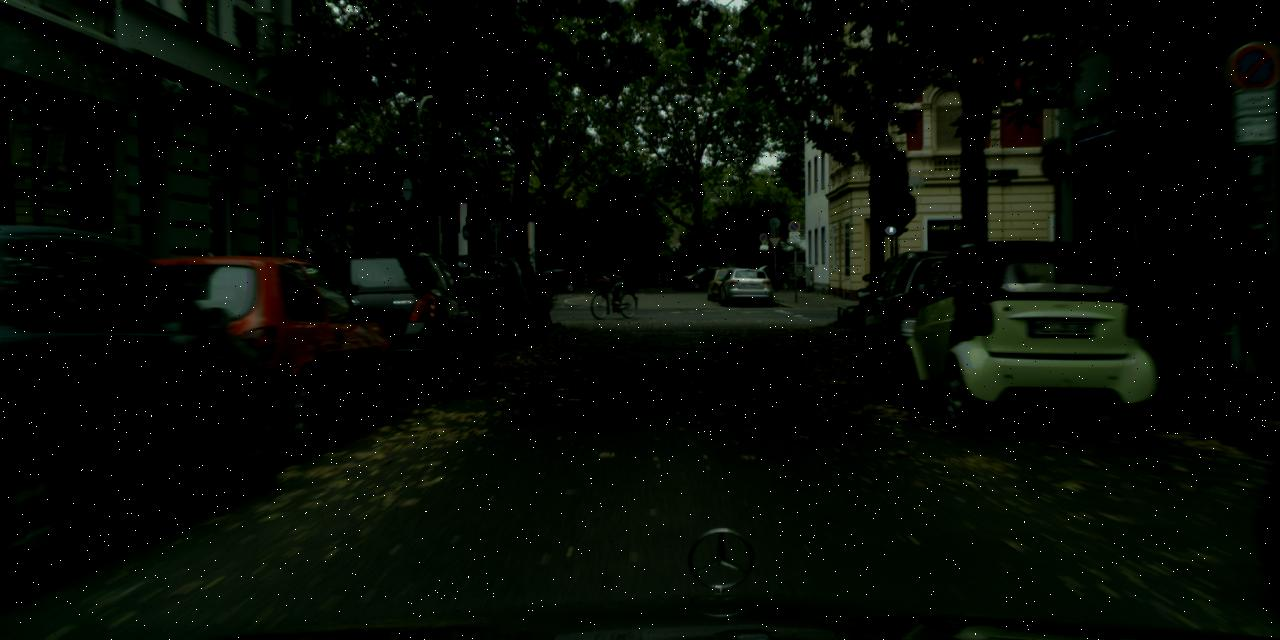ped: (292, 247, 326, 332), (606, 250, 630, 308)
